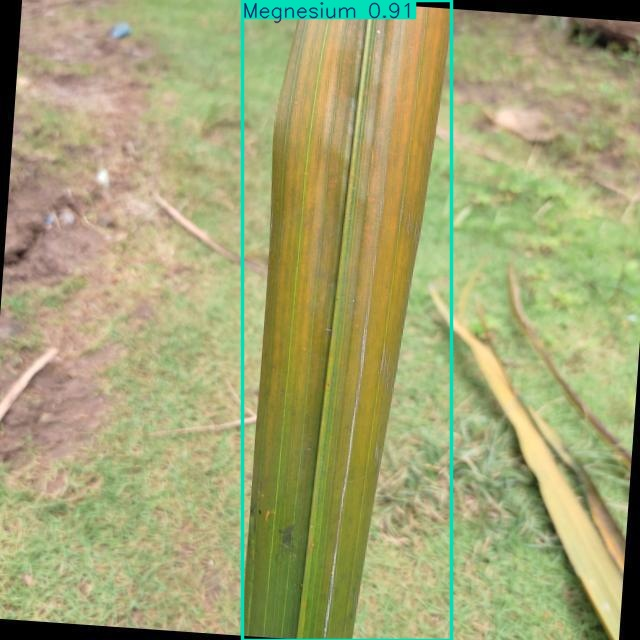Megnesium: (243, 0, 451, 640)
